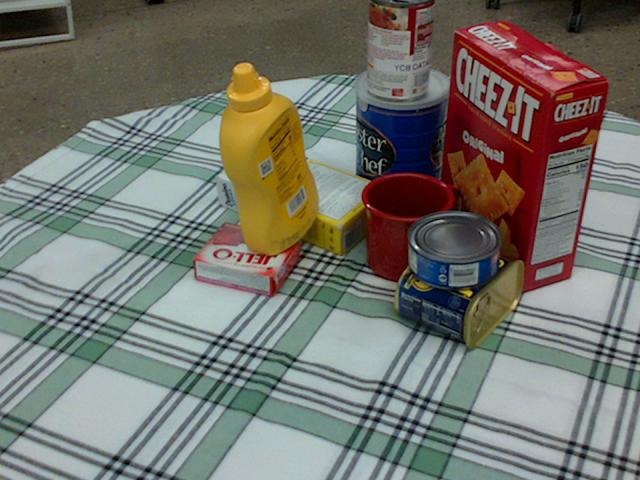cracker_box: (437, 20, 611, 288)
gelatin_box: (193, 223, 302, 297)
master_chef_can: (353, 63, 450, 217)
mug: (362, 172, 458, 282)
mustard_bottle: (219, 62, 317, 255)
potted_meat_can: (397, 231, 527, 344)
sugar_box: (213, 142, 388, 254)
tomato_soup_can: (367, 0, 435, 100)
tuna_fish_can: (407, 211, 501, 288)
